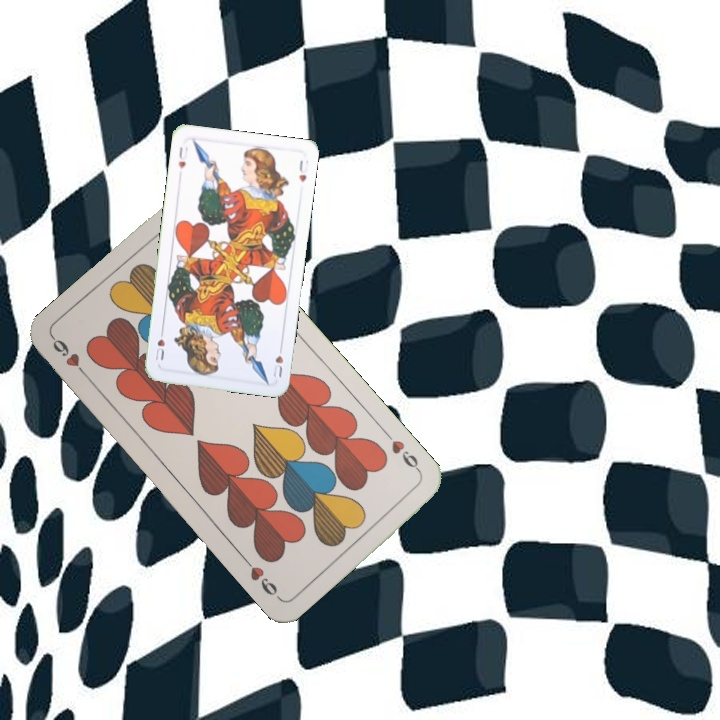H9: (48, 333, 93, 382), (380, 428, 424, 477)
HU: (269, 341, 286, 380), (174, 143, 191, 171)
